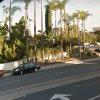Palm tree: (54, 1, 95, 38)
